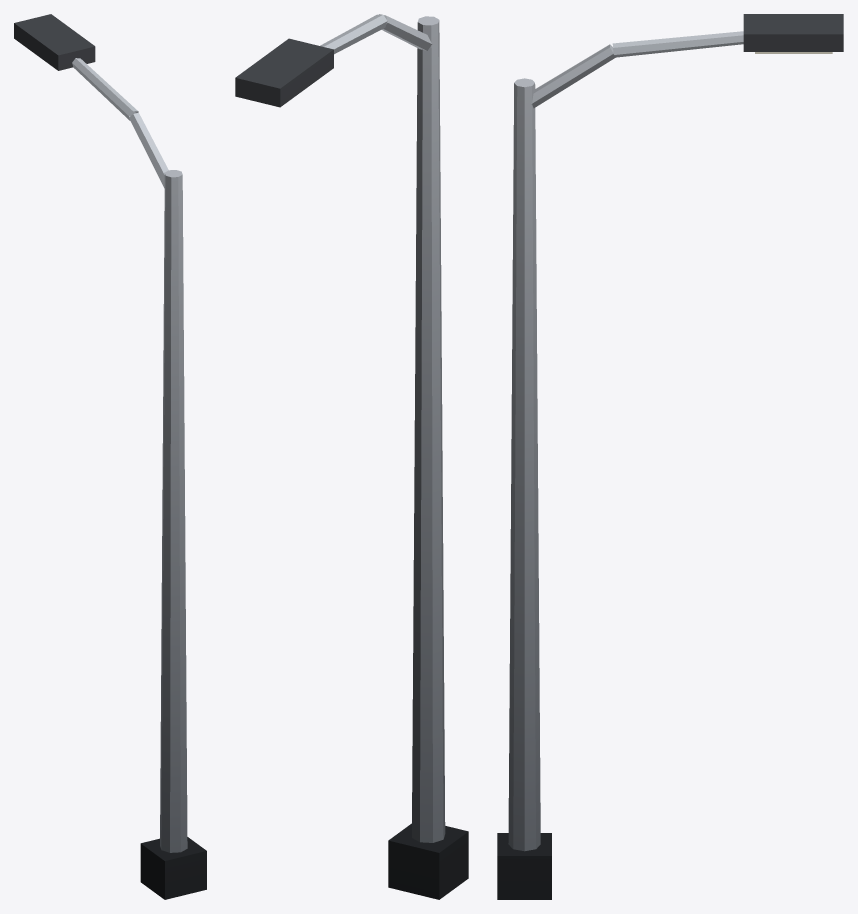
Rendered from StreetLightSingle.fbx.
3 renders of one model, left to right at view 1: azimuth 30°, elevation 25°; view 2: azimuth 150°, elevation 25°; view 3: azimuth 270°, elevation 25°, orthographic. The views are drawn at different scales.
Parts seen in each view (by area): view 1: StreetLightSingle_LOD0; view 2: StreetLightSingle_LOD0; view 3: StreetLightSingle_LOD0.
Boxes of the visible parts, x1,y1,x2,y2 form: StreetLightSingle_LOD0: (14, 14, 206, 899); StreetLightSingle_LOD0: (235, 14, 468, 899); StreetLightSingle_LOD0: (497, 14, 843, 899).
Bounding box in the file's own units: 0.0378 × 0.6556 × 0.2383.
Materials: 1 (1 with a texture image).
